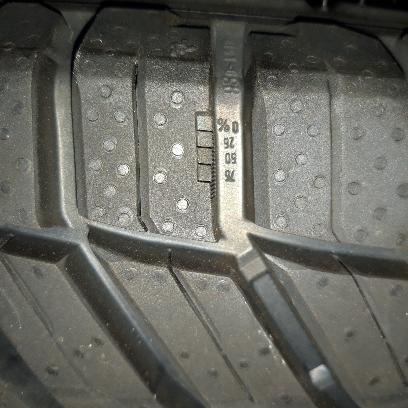temoin:100: (192, 109, 220, 203)
